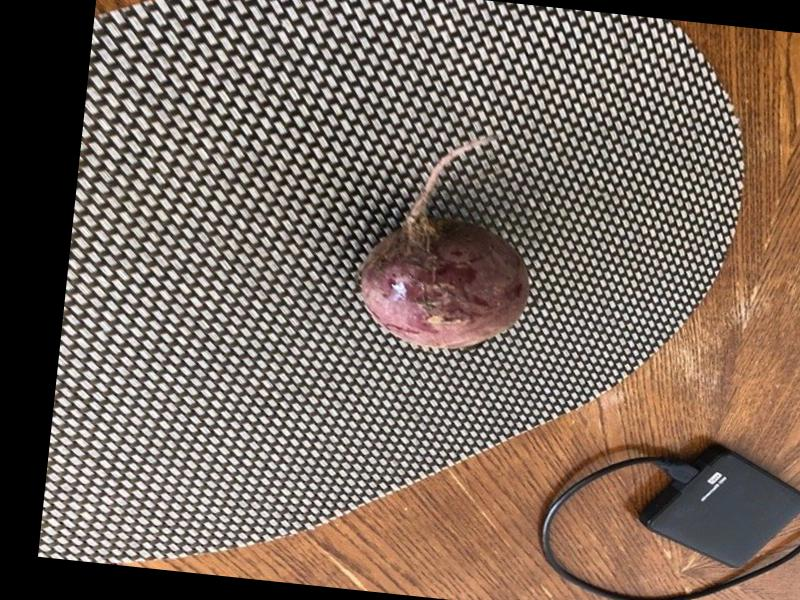Beet: (354, 122, 543, 356)
